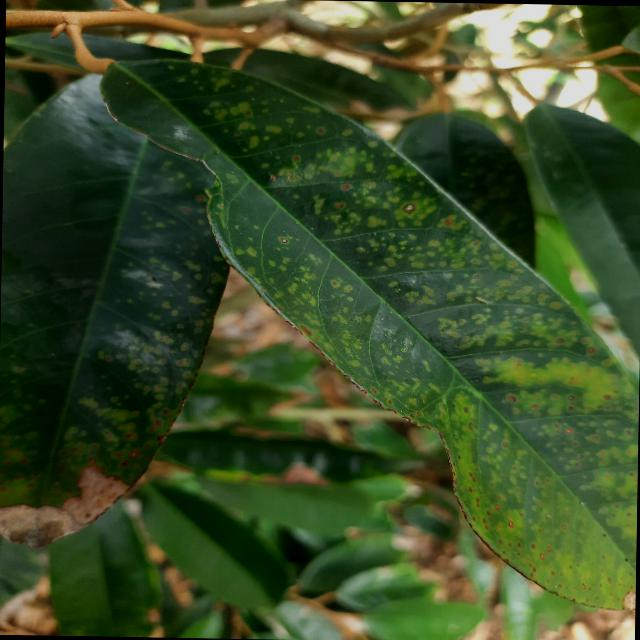Leaf Spot: (86, 53, 639, 639), (0, 63, 238, 555)
